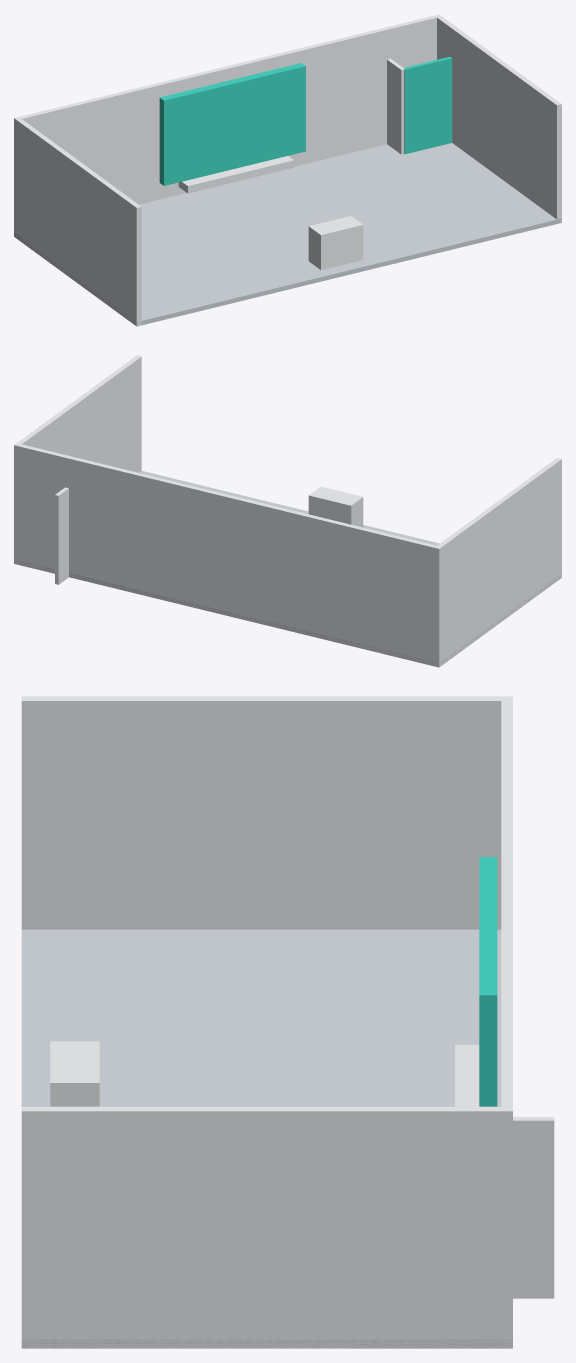
3 renders of one model, top to bottom at view 1: azimuth 30°, elevation 25°; view 2: azimuth 150°, elevation 25°; view 3: azimuth 270°, elevation 25°, orthographic. The views are drawn at different scales.
Parts seen in each view (by area): view 1: Exhibition Booth Concept; view 2: Exhibition Booth Concept; view 3: Exhibition Booth Concept.
Boxes of the visible parts, box(x1,y1,x2,y2) form: Exhibition Booth Concept: box(14, 14, 561, 326); Exhibition Booth Concept: box(14, 355, 561, 667); Exhibition Booth Concept: box(21, 696, 554, 1348).
Bounding box in the file's own units: 12 × 3.2 × 6.51.
